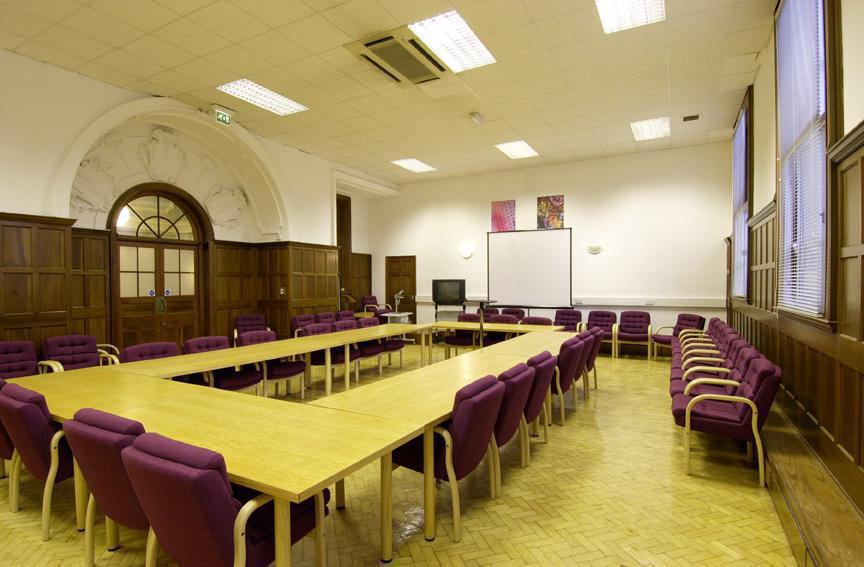Puerta: (119, 236, 204, 334)
Ventana: (772, 10, 838, 320), (725, 127, 753, 306)
